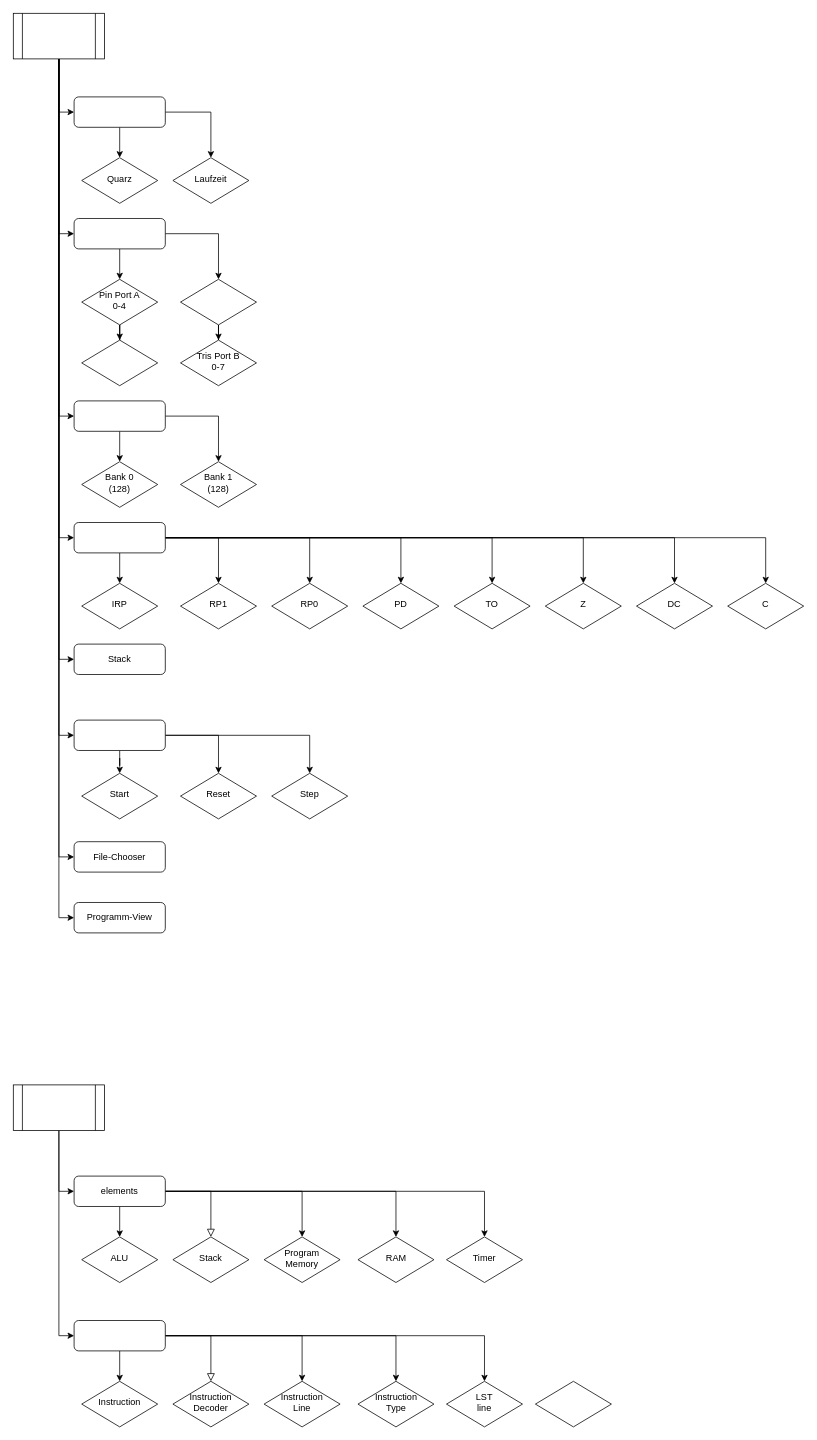
The diagram is 817 pixels wide and 1440 high, and some of its shapes have lost their labels. Each missing label, with the box of its shape:
Bedienelemente: (73, 719, 165, 750)
FileRegister: (73, 400, 165, 431)
GUI: (13, 13, 104, 59)
Handler: (535, 1381, 611, 1427)
I/O PINS: (73, 218, 165, 249)
instructions: (73, 1320, 165, 1351)
PIC16F8X: (13, 1084, 104, 1130)
Pin Port B 0-7: (180, 279, 256, 325)
Status-Flag: (73, 522, 165, 553)
Timing: (73, 96, 165, 127)
Tris Port A 0-7: (81, 339, 158, 386)
